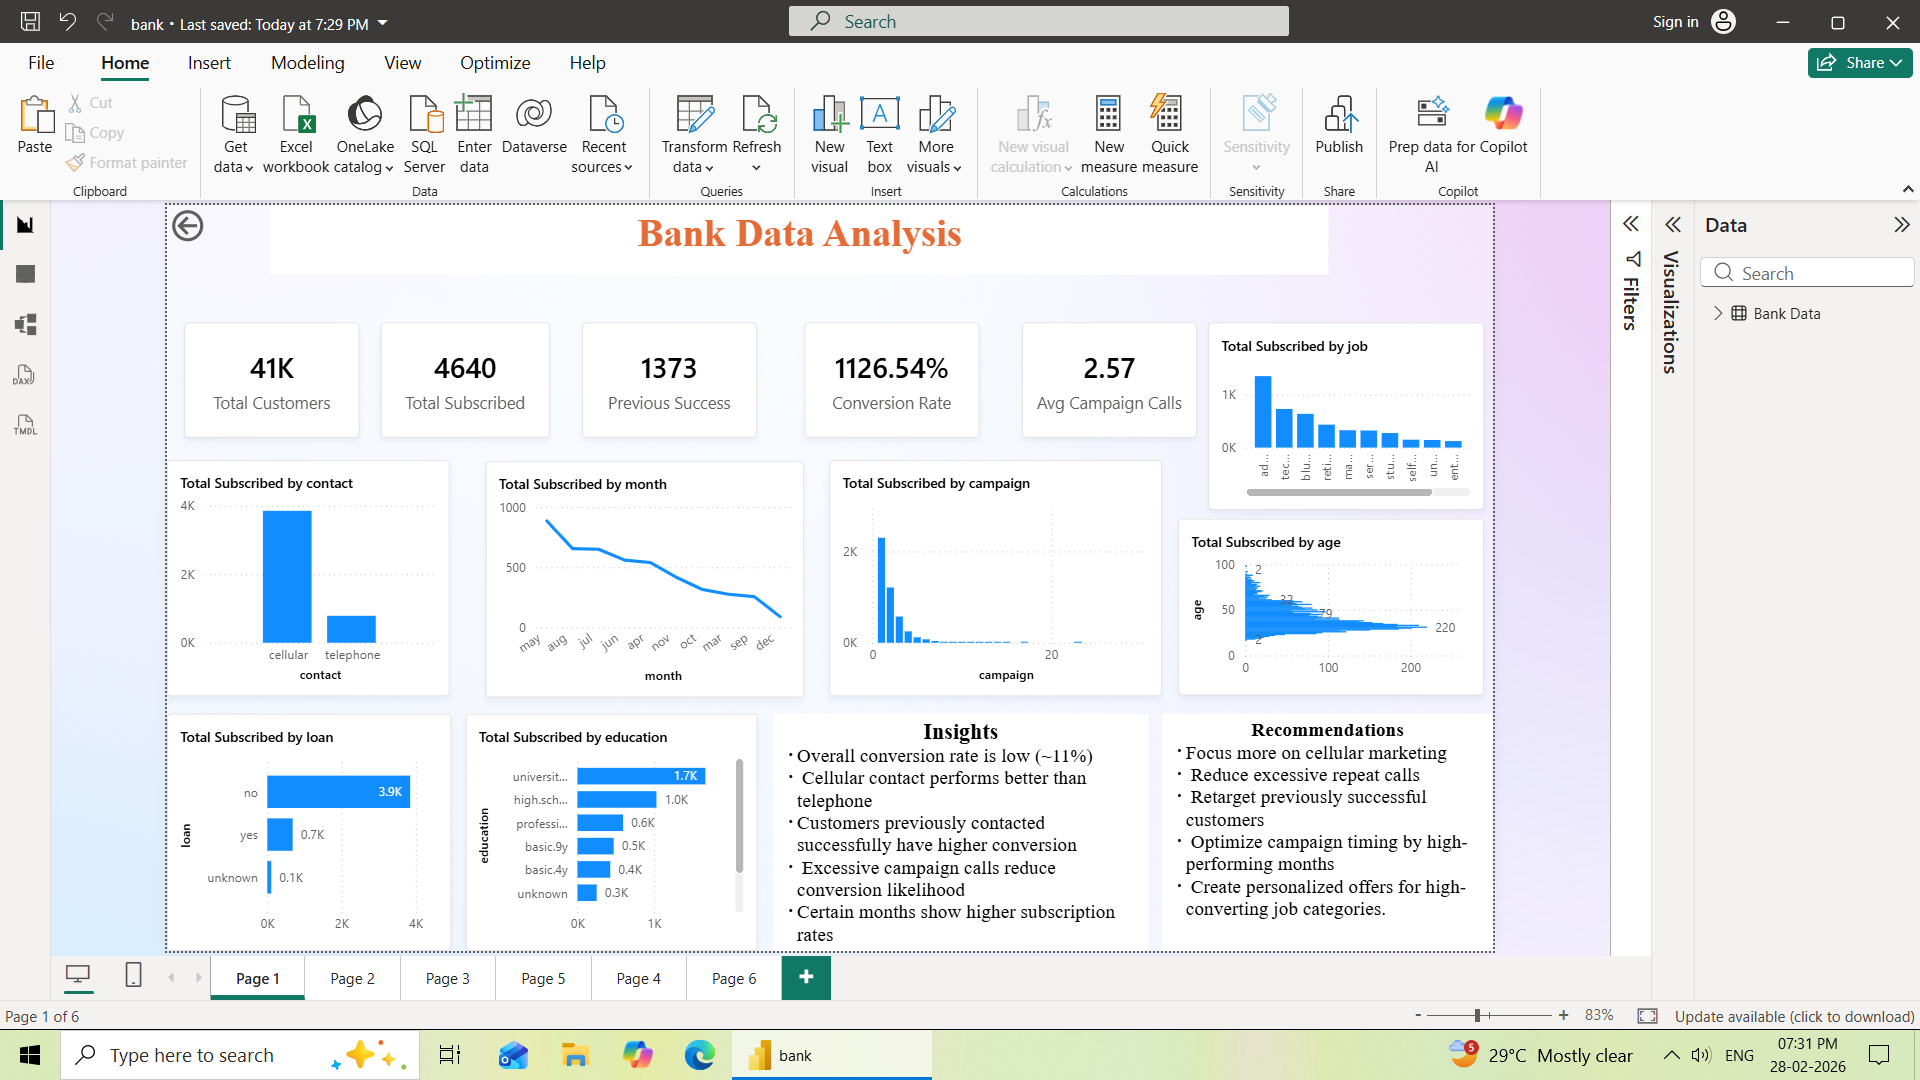

This screenshot's page, from the dashboard's own definition file:
{"tool":"powerbi","page":{"name":"Page 1","canvas":[1280,720],"ordinal":0},"visuals":[{"type":"card","fields":{"Values":["Bank Data.Total Customers"]},"box":[16.5,113.9,168.8,111.1],"z":0},{"type":"actionButton","box":[0,0,100,40],"z":1000},{"type":"card","fields":{"Values":["Bank Data.Total Subscribed"]},"box":[205.8,113.9,163.3,111.1],"z":2000},{"type":"card","fields":{"Values":["Bank Data.Conversion Rate"]},"box":[614.8,113.9,168.8,111.1],"z":3000},{"type":"card","fields":{"Values":["Bank Data.Previous Success"]},"box":[400.7,113.9,168.8,111.1],"z":4000},{"type":"card","fields":{"Values":["Bank Data.Avg Campaign Calls"]},"box":[824.7,113.9,168.8,111.1],"z":5000},{"type":"textbox","box":[584.6,491.3,362.3,229.2],"z":6000},{"type":"textbox","box":[960.6,491.3,319.7,229.2],"z":7000},{"type":"columnChart","fields":{"Category":["Bank Data.contact"],"Y":["Bank Data.Total Subscribed"]},"box":[0,245.6,273.1,227.8],"z":8000},{"type":"lineChart","fields":{"Category":["Bank Data.month"],"Y":["Bank Data.Total Subscribed"]},"box":[307.4,247,307.4,227.8],"z":9000},{"type":"columnChart","fields":{"Category":["Bank Data.campaign"],"Y":["Bank Data.Total Subscribed"]},"box":[639.5,245.6,321.1,227.8],"z":10000},{"type":"columnChart","fields":{"Category":["Bank Data.job"],"Y":["Bank Data.Total Subscribed"]},"box":[1004.5,113.9,266.2,181.1],"z":11000},{"type":"barChart","fields":{"Category":["Bank Data.loan"],"Y":["Bank Data.Total Subscribed"]},"box":[0,491.3,274.4,229.2],"z":12000},{"type":"barChart","fields":{"Category":["Bank Data.education"],"Y":["Bank Data.Total Subscribed"]},"box":[288.2,491.3,281.3,229.2],"z":13000},{"type":"barChart","fields":{"Category":["Bank Data.age"],"Y":["Bank Data.Total Subscribed"]},"box":[975.6,303.3,295,170.2],"z":14000},{"type":"textbox","box":[100.2,0,1020.9,67.2],"z":15000}]}

Visuals, with their boxes on the page's 1280x720 design canvas (x1, y1, x2, y2). These are canvas units, not pixel positions in the 1920x1080 screenshot, which may show the page scaled, cropped or inside an application window:
card - Bank Data.Total Customers: detection(16, 114, 185, 225)
actionButton: detection(0, 0, 100, 40)
card - Bank Data.Total Subscribed: detection(206, 114, 369, 225)
card - Bank Data.Conversion Rate: detection(615, 114, 784, 225)
card - Bank Data.Previous Success: detection(401, 114, 570, 225)
card - Bank Data.Avg Campaign Calls: detection(825, 114, 994, 225)
textbox: detection(585, 491, 947, 720)
textbox: detection(961, 491, 1280, 720)
columnChart - Bank Data.contact x Bank Data.Total Subscribed: detection(0, 246, 273, 473)
lineChart - Bank Data.month x Bank Data.Total Subscribed: detection(307, 247, 615, 475)
columnChart - Bank Data.campaign x Bank Data.Total Subscribed: detection(640, 246, 961, 473)
columnChart - Bank Data.job x Bank Data.Total Subscribed: detection(1004, 114, 1271, 295)
barChart - Bank Data.loan x Bank Data.Total Subscribed: detection(0, 491, 274, 720)
barChart - Bank Data.education x Bank Data.Total Subscribed: detection(288, 491, 570, 720)
barChart - Bank Data.age x Bank Data.Total Subscribed: detection(976, 303, 1271, 474)
textbox: detection(100, 0, 1121, 67)
